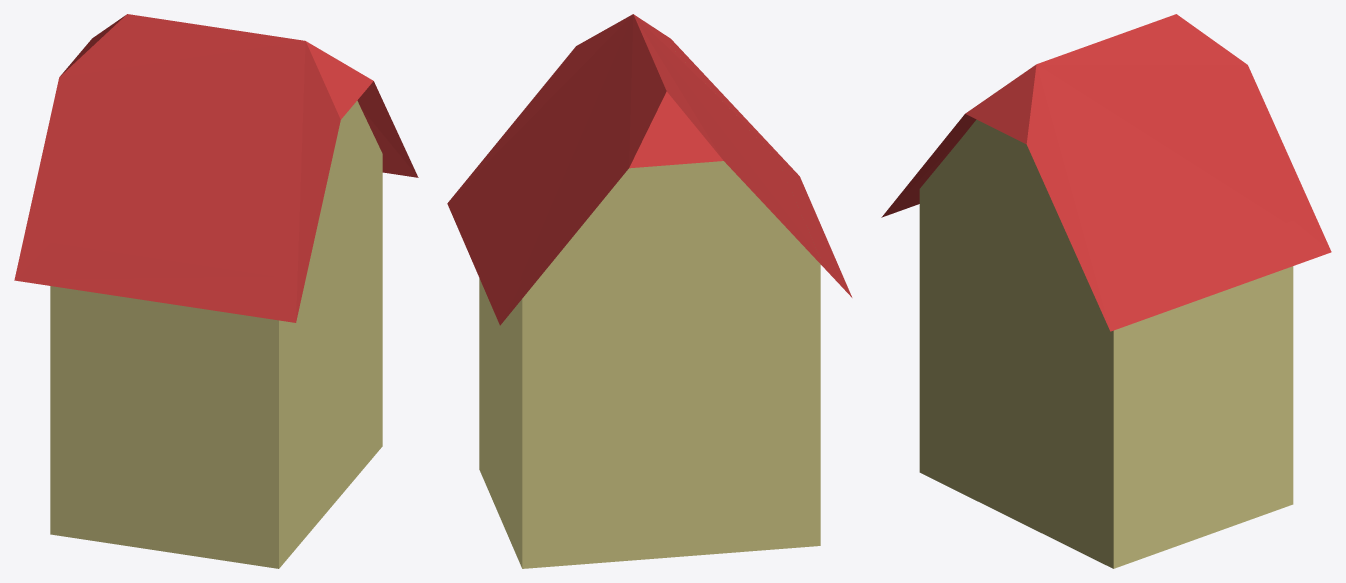
3 views of the same model, side by side, from view 1: azimuth 30°, elevation 25°; view 2: azimuth 150°, elevation 25°; view 3: azimuth 270°, elevation 25° (orthographic). The views are drawn at different scales.
Visible parts, largest first — view 1: group_5, group_3, group_4; view 2: group_5, group_3, group_4; view 3: group_5, group_3, group_4.
Boxes of the visible parts, x1,y1,x2,y2 form: group_5: (50, 100, 382, 568); group_3: (14, 14, 417, 321); group_4: (14, 60, 418, 322); group_5: (479, 161, 820, 568); group_3: (448, 14, 851, 297); group_4: (447, 26, 852, 325); group_5: (919, 119, 1293, 568); group_3: (881, 14, 1292, 330); group_4: (965, 39, 1331, 331).
Size of the model in its own units: 16.79 by 16.52 by 18.19.
